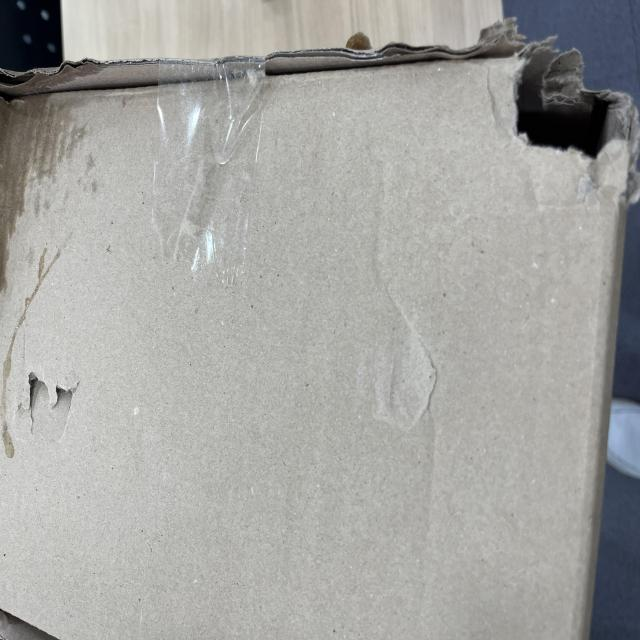damaged: (7, 470, 140, 596)
